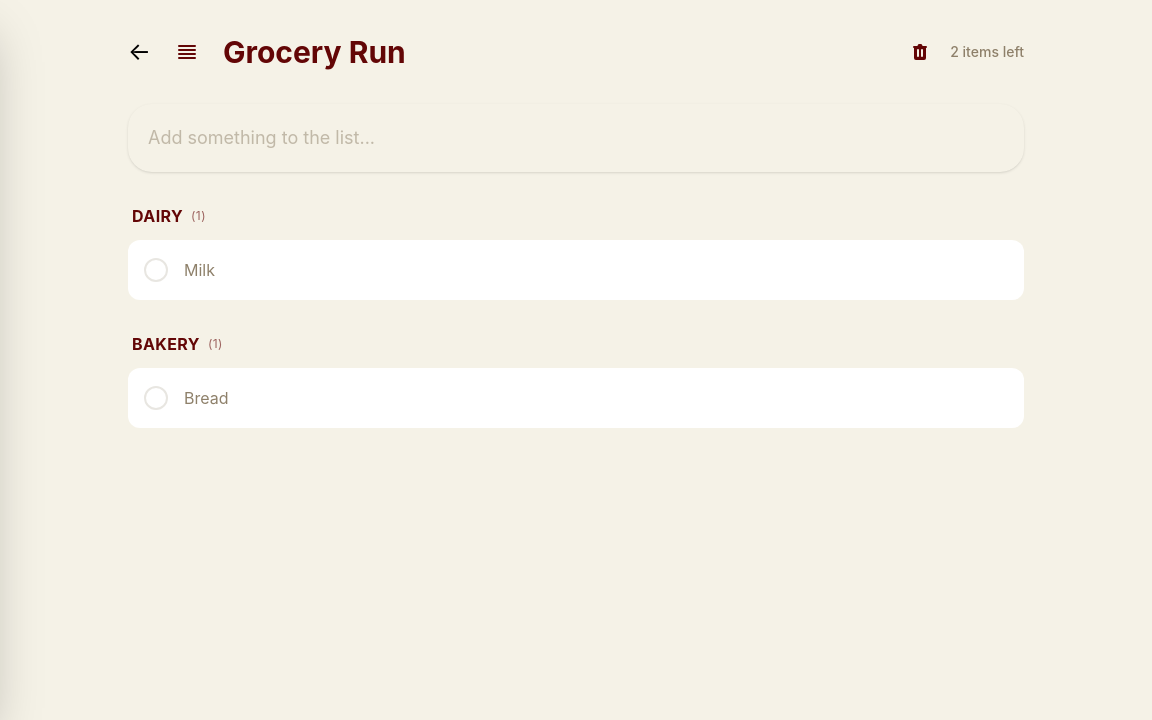
Test: fe-bug-011 — ShoppingList edit mode button layout › shows the bulk-delete action bar after entering edit mode
This screenshot has width=1152, height=720.
Click the button titled "Bulk Delete Mode" at (920, 52), box [902,34,938,70]
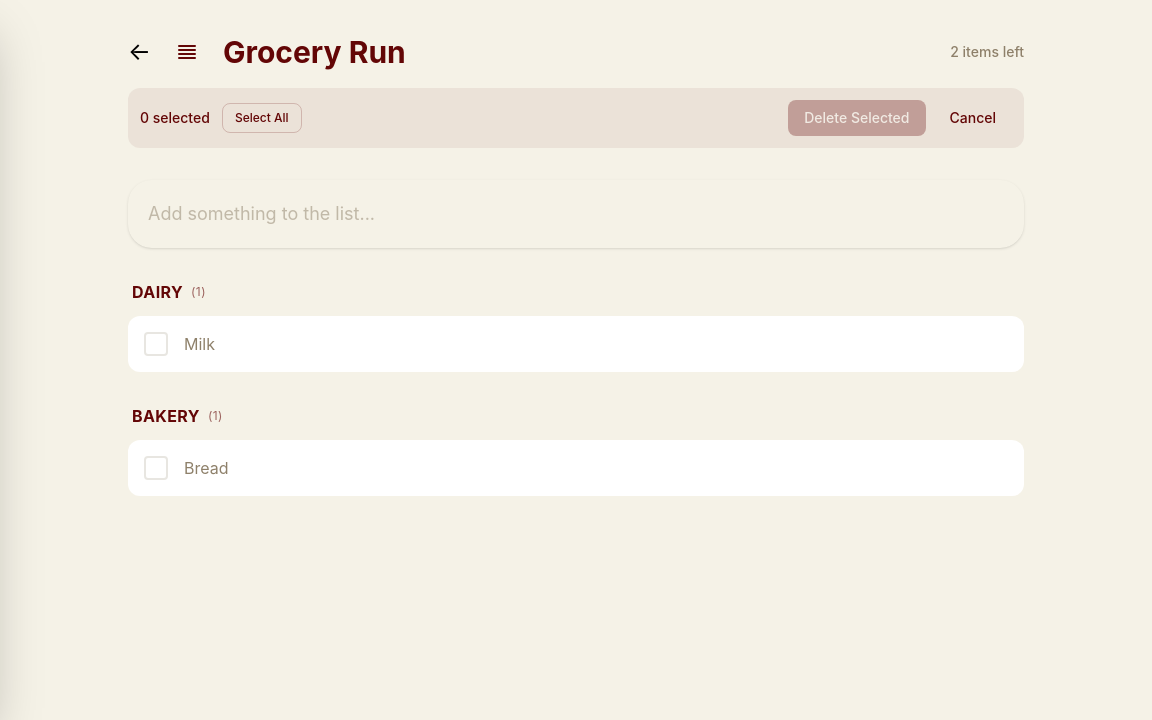
Expected: the button "Select All" is shown, [222,103,302,133]
